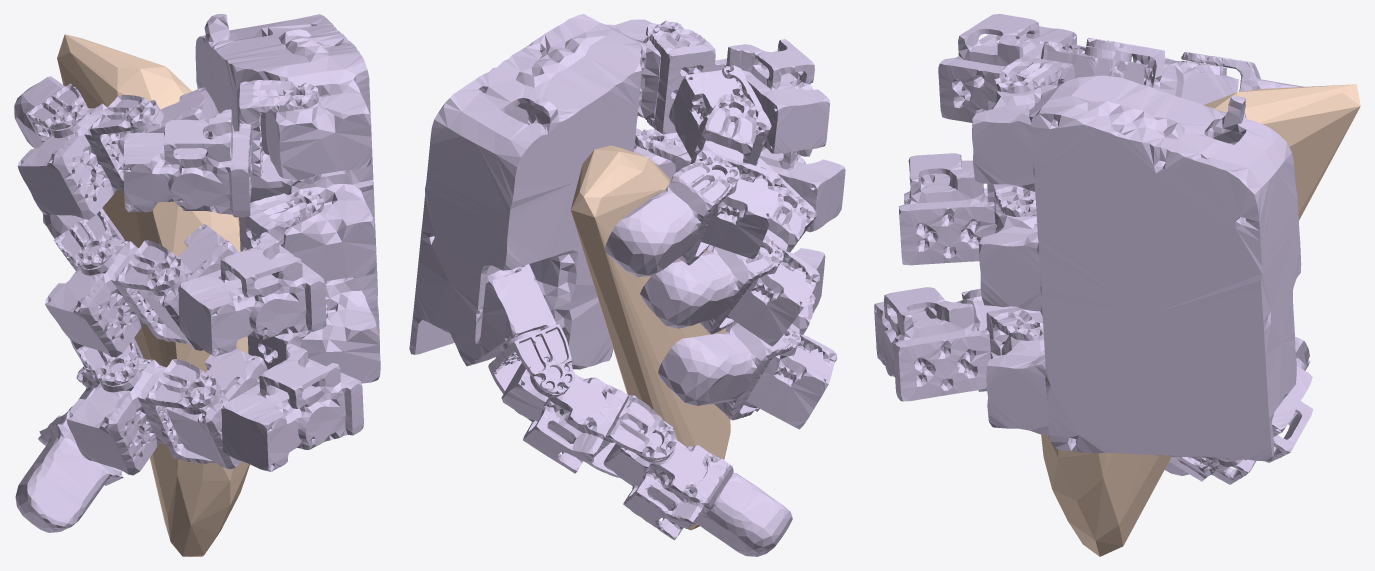
3 views of the same model, side by side, from view 1: azimuth 30°, elevation 25°; view 2: azimuth 150°, elevation 25°; view 3: azimuth 270°, elevation 25° (orthographic). The views are drawn at different scales.
Visible parts, largest first — view 1: LEAP_hand, world; view 2: LEAP_hand, world; view 3: LEAP_hand, world.
Boxes of the visible parts, left/top/right/bottom form: LEAP_hand: left=14, top=14, right=380, bottom=532; world: left=57, top=34, right=249, bottom=556; LEAP_hand: left=409, top=14, right=845, bottom=556; world: left=570, top=145, right=730, bottom=530; LEAP_hand: left=874, top=14, right=1313, bottom=484; world: left=1041, top=84, right=1360, bottom=556.
Size of the model in its own units: 0.1469 by 0.1944 by 0.1669.
